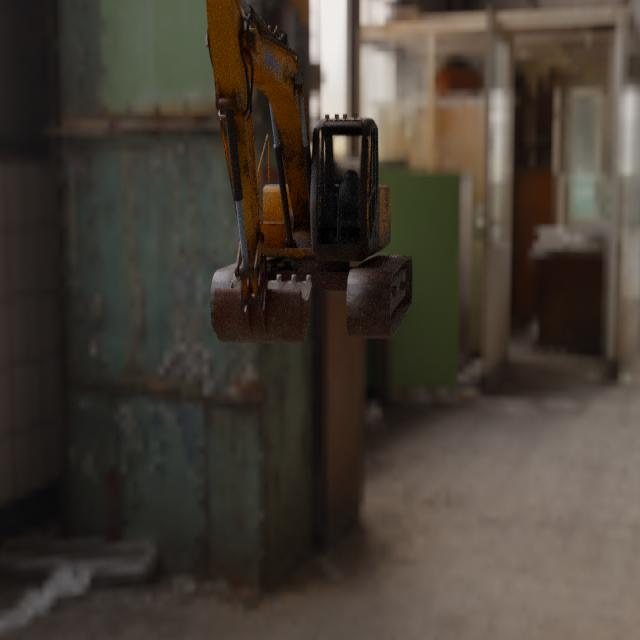excavator: (205, 0, 412, 345)
